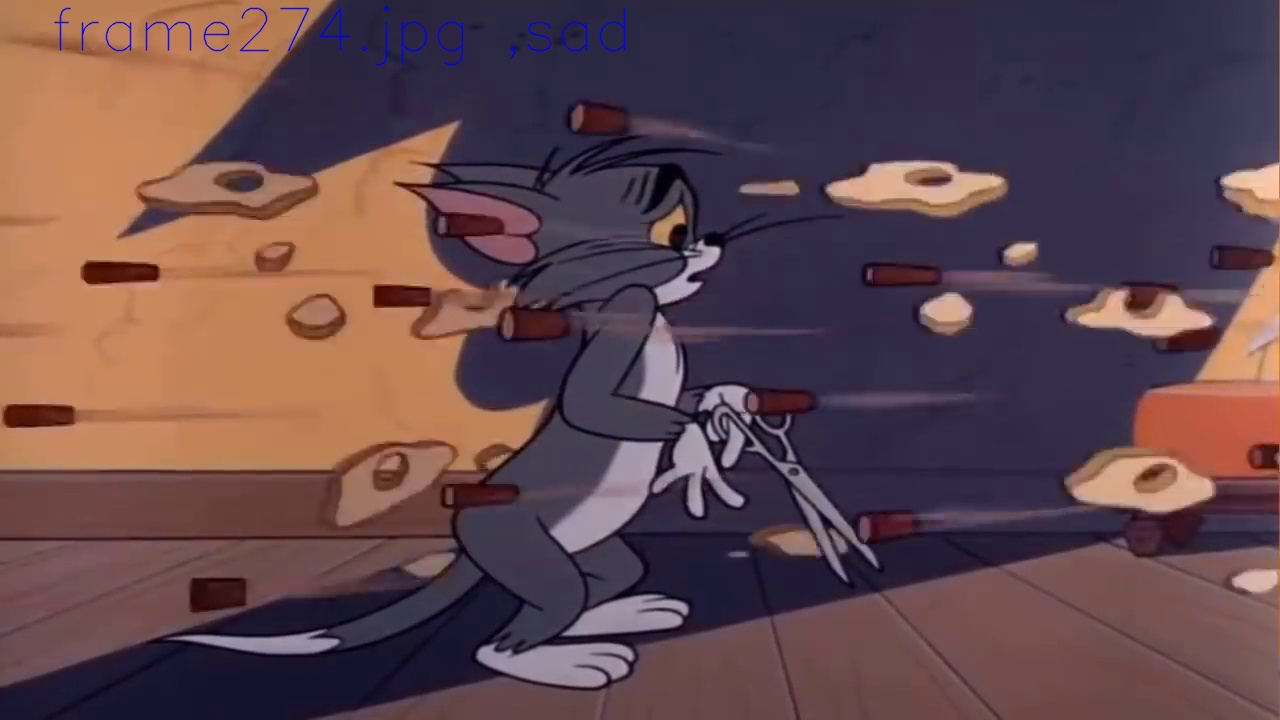sad: (624, 157, 721, 300)
